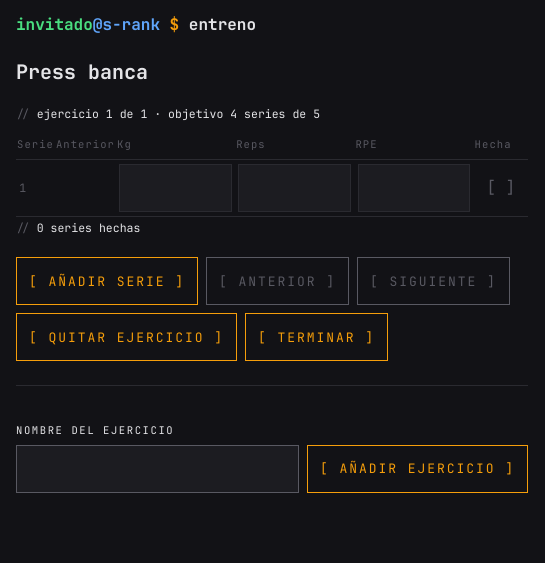
Scenario: si no se puede guardar, se dice en rojo y no en silencio
This screenshot has width=545, height=563.
Type "80" into the number field named "Peso en kilos, serie 1". click: (176, 188)
box: [119, 164, 232, 212]
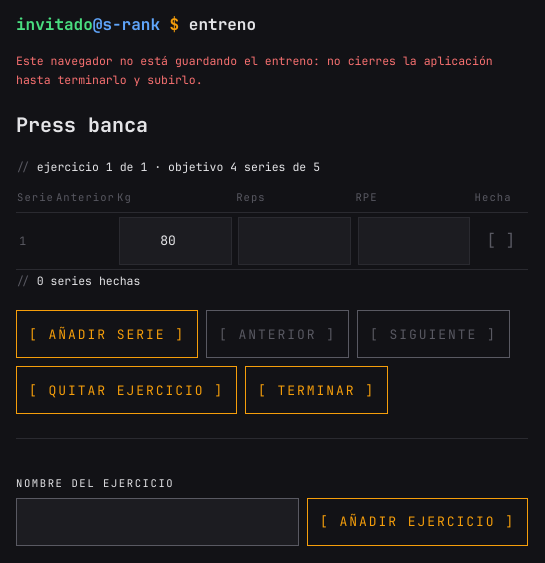
Check: the message shows "no cierres", box [16, 53, 493, 87]
